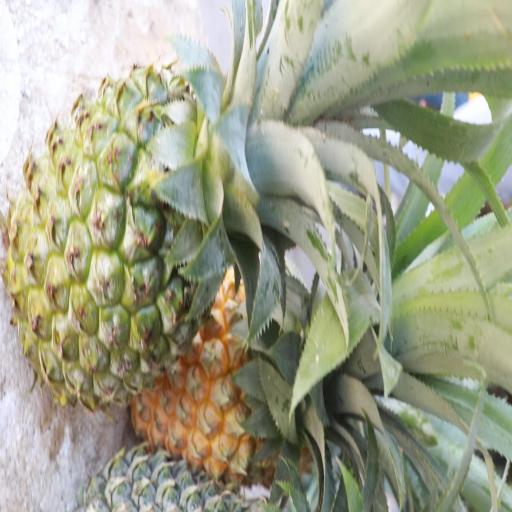------------------------------: (14, 58, 229, 402)
Pineapple - v8 v1: (144, 281, 334, 482)
